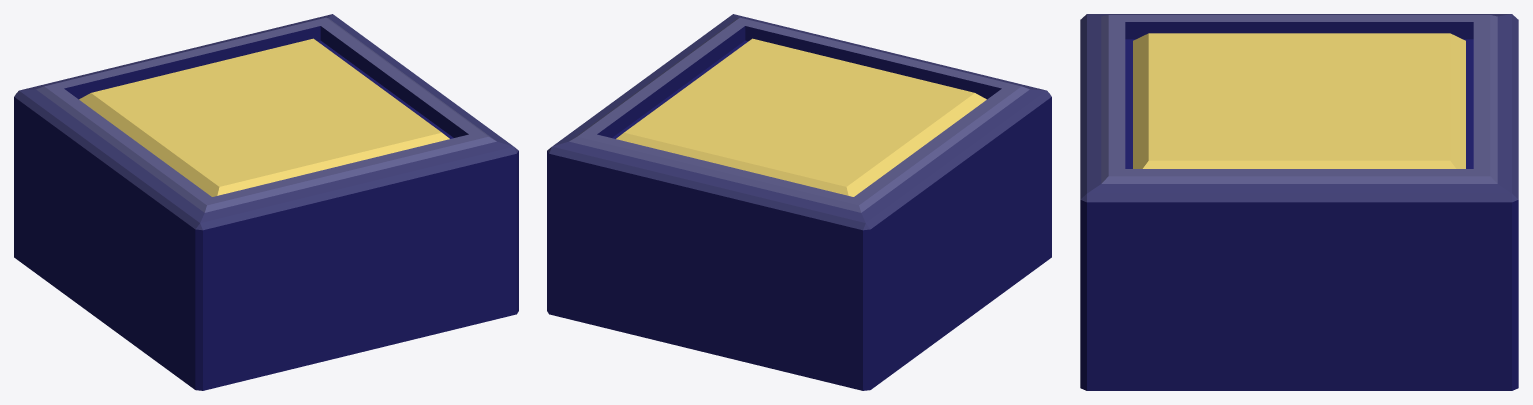
Rendered from Tile-Space-2.fbx.
3 renders of one model, left to right at view 1: azimuth 30°, elevation 25°; view 2: azimuth 150°, elevation 25°; view 3: azimuth 270°, elevation 25°, orthographic. The views are drawn at different scales.
Visible parts, largest first — view 1: Tile02; view 2: Tile02; view 3: Tile02.
Part boxes in pixels (left/top/right/bottom): Tile02: left=14, top=14, right=518, bottom=390; Tile02: left=547, top=14, right=1051, bottom=390; Tile02: left=1080, top=14, right=1518, bottom=390.
Size of the model in its own units: 192 by 97.86 by 192.
